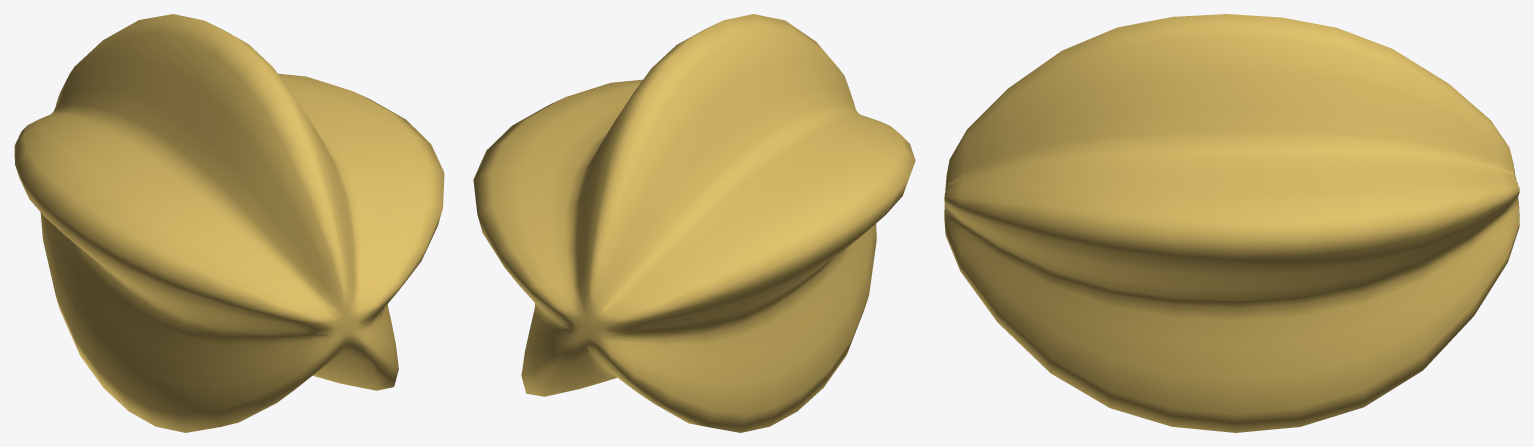
File: Starfruit_01.dae
The picture shows the model from 3 angles, left to right: view 1: azimuth 30°, elevation 25°; view 2: azimuth 150°, elevation 25°; view 3: azimuth 270°, elevation 25°; orthographic projection. The views are drawn at different scales.
Parts seen in each view (by area): view 1: Starfruit_01_LOD0; view 2: Starfruit_01_LOD0; view 3: Starfruit_01_LOD0.
Boxes of the visible parts, bbox=[...] form: Starfruit_01_LOD0: bbox=[14, 14, 444, 432]; Starfruit_01_LOD0: bbox=[473, 14, 915, 432]; Starfruit_01_LOD0: bbox=[944, 14, 1519, 432].
Size of what is drawn, in the model's own units: 4.04 by 5.49 by 3.83.
